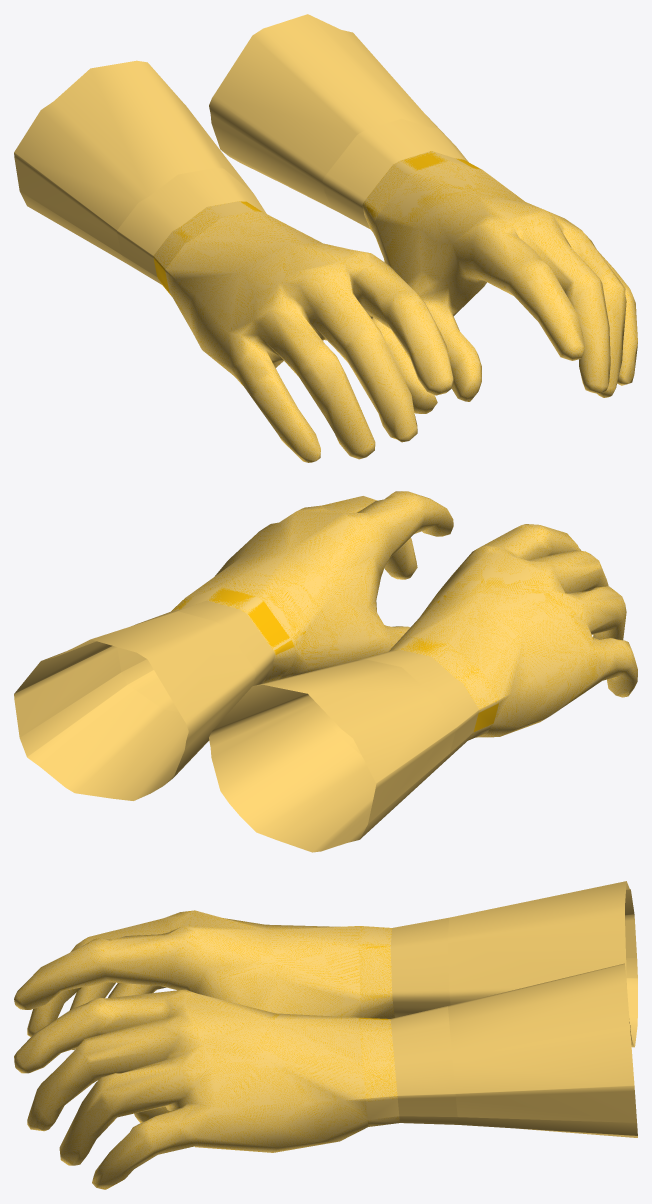
File: gloves.fbx
3 renders of one model, top to bottom at view 1: azimuth 30°, elevation 25°; view 2: azimuth 150°, elevation 25°; view 3: azimuth 270°, elevation 25°, orthographic. The views are drawn at different scales.
Visible parts, largest first — view 1: Group2, Group3; view 2: Group2, Group3; view 3: Group3, Group2.
Boxes of the visible parts, x1=… form: Group2: x1=14, y1=60, x2=453, y2=462; Group3: x1=209, y1=14, x2=637, y2=401; Group2: x1=209, y1=524, x2=637, y2=852; Group3: x1=14, y1=491, x2=453, y2=800; Group3: x1=14, y1=963, x2=637, y2=1189; Group2: x1=14, y1=881, x2=637, y2=1049.
Size of the model in its own units: 20.65 by 9.71 by 29.87.
